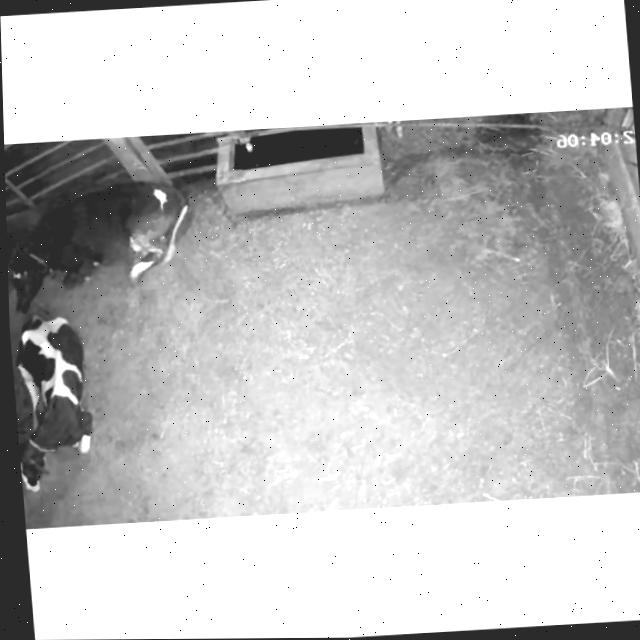lay: (5, 172, 200, 313), (9, 308, 119, 505)
